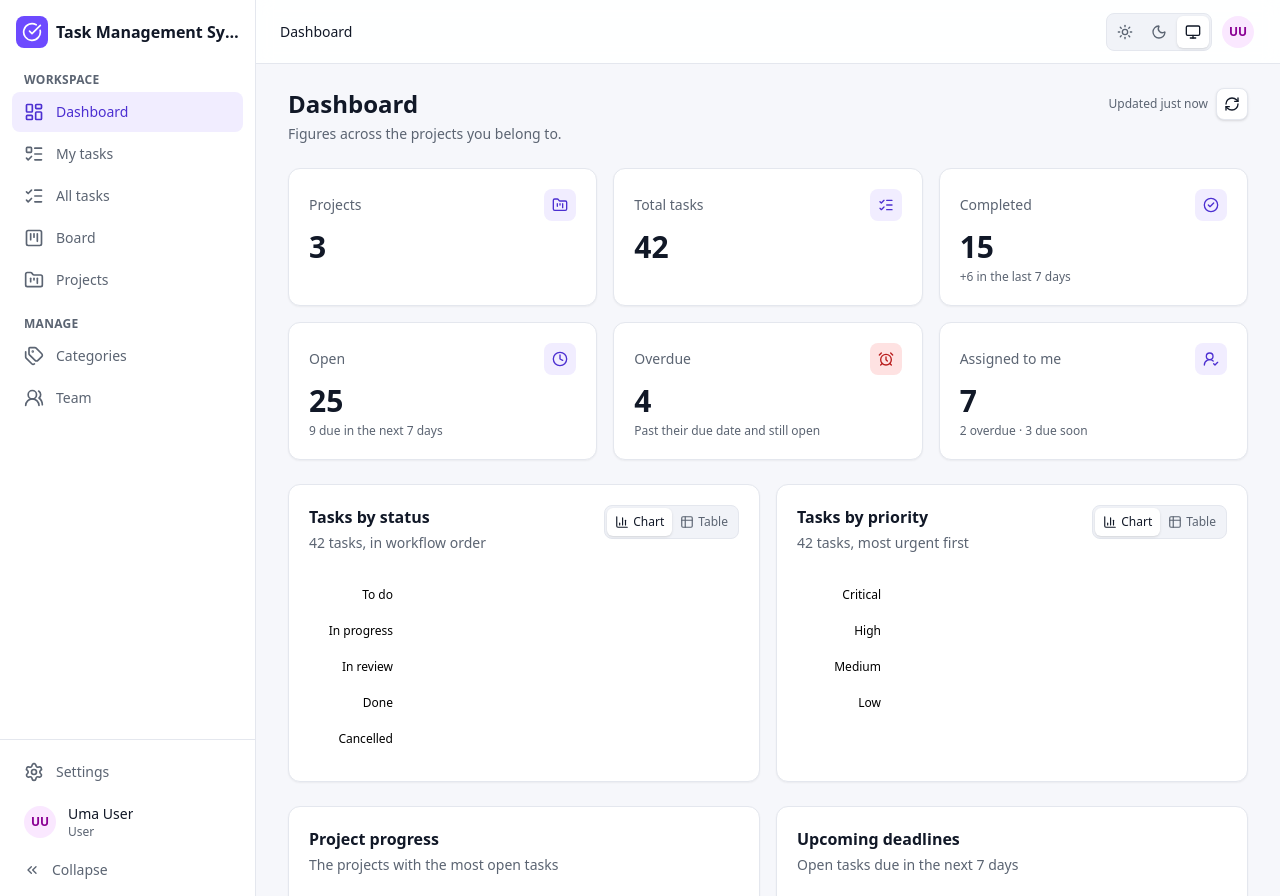
Test: Layout › signs out from the user menu and returns to the sign-in page
The image size is (1280, 896).
Check: the heading "Dashboard" is shown, box [288,87,418,120]
Click the button named "Account menu for Uma User": x=1238, y=32 [1220,14,1256,50]
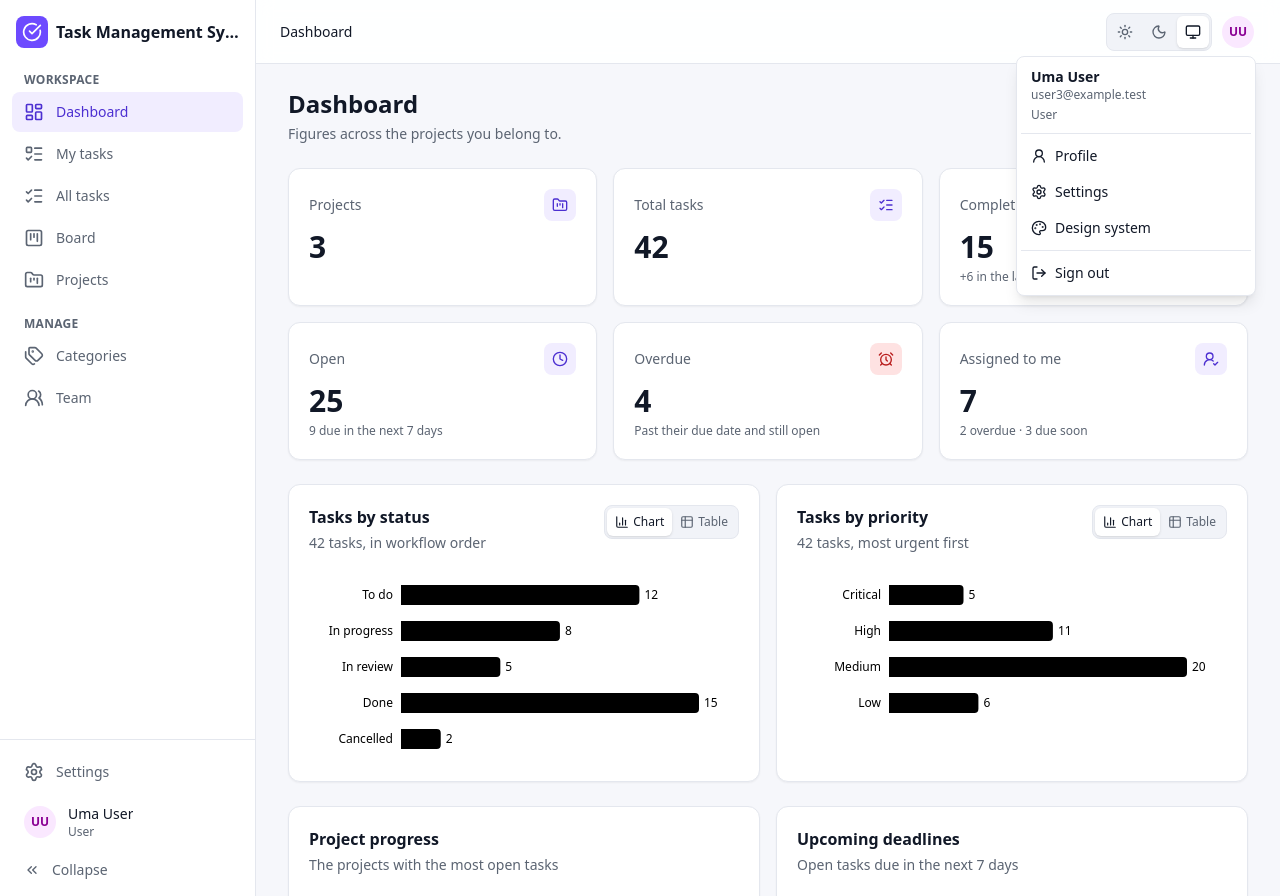
Click the menu item "Sign out": x=1070, y=272 [1031,263,1109,282]
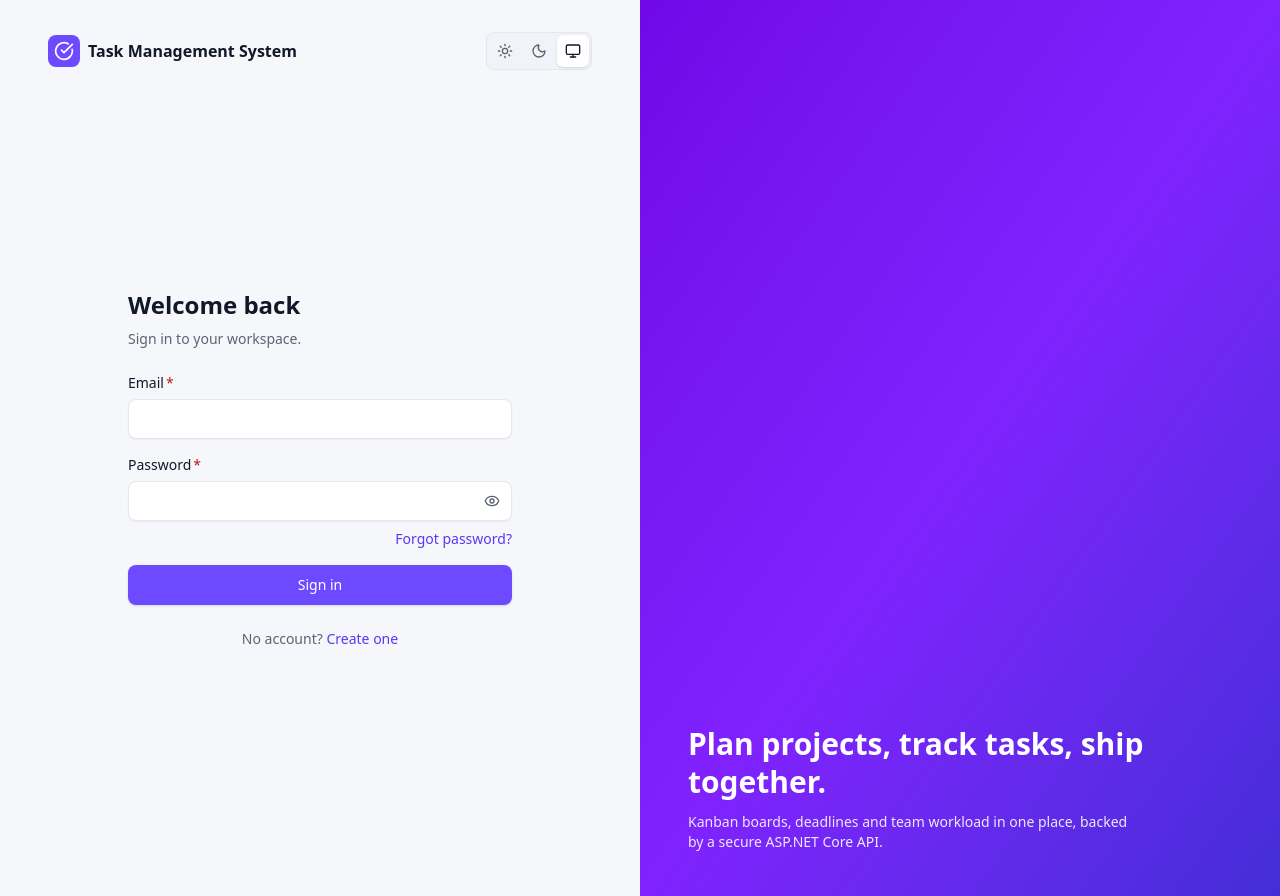
Check: the heading "Welcome back" is shown, box [128,288,300,321]
